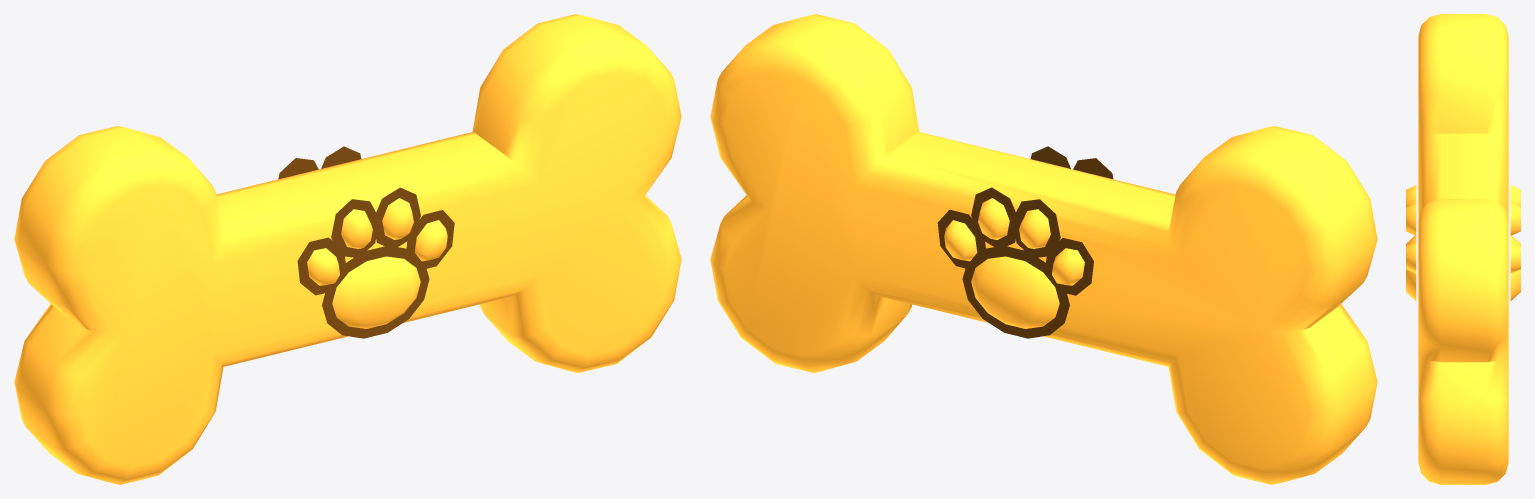
Rendered from golden_bone.glb.
3 renders of one model, left to right at view 1: azimuth 30°, elevation 25°; view 2: azimuth 150°, elevation 25°; view 3: azimuth 270°, elevation 25°, orthographic. The views are drawn at different scales.
Visible parts, largest first — view 1: Bone_Body, Paw_Emblems; view 2: Bone_Body, Paw_Emblems; view 3: Bone_Body, Paw_Emblems.
Boxes of the visible parts, left/top/right/bottom form: Bone_Body: left=14, top=14, right=681, bottom=484; Paw_Emblems: left=278, top=146, right=454, bottom=338; Bone_Body: left=710, top=14, right=1377, bottom=484; Paw_Emblems: left=937, top=146, right=1113, bottom=338; Bone_Body: left=1418, top=14, right=1508, bottom=484; Paw_Emblems: left=1406, top=185, right=1520, bottom=301.
Bounding box in the file's own units: 0.7998 × 0.3944 × 0.152.
